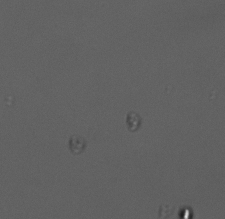Dead Cell: (124, 110, 142, 132), (68, 135, 87, 154)
